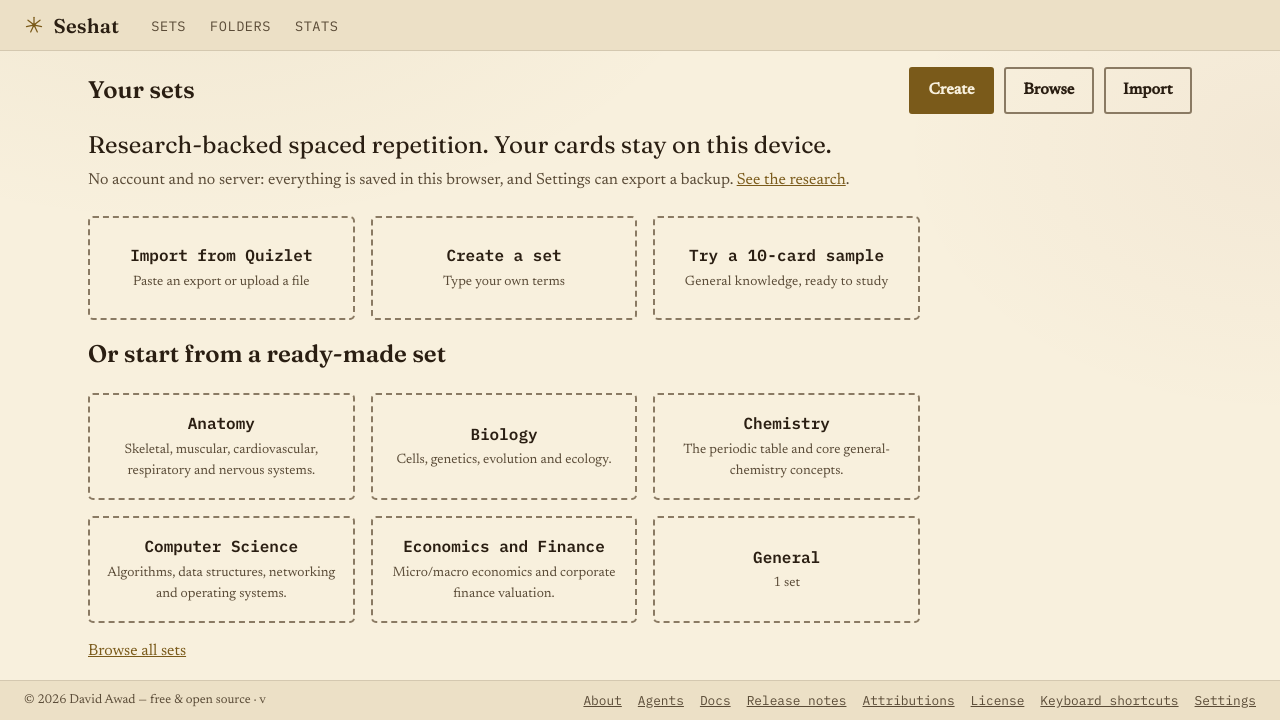
Test: command palette › Keyboard shortcuts opens the shortcuts modal, which lists the new binding
Type keys "{Control>}k{/Control}"
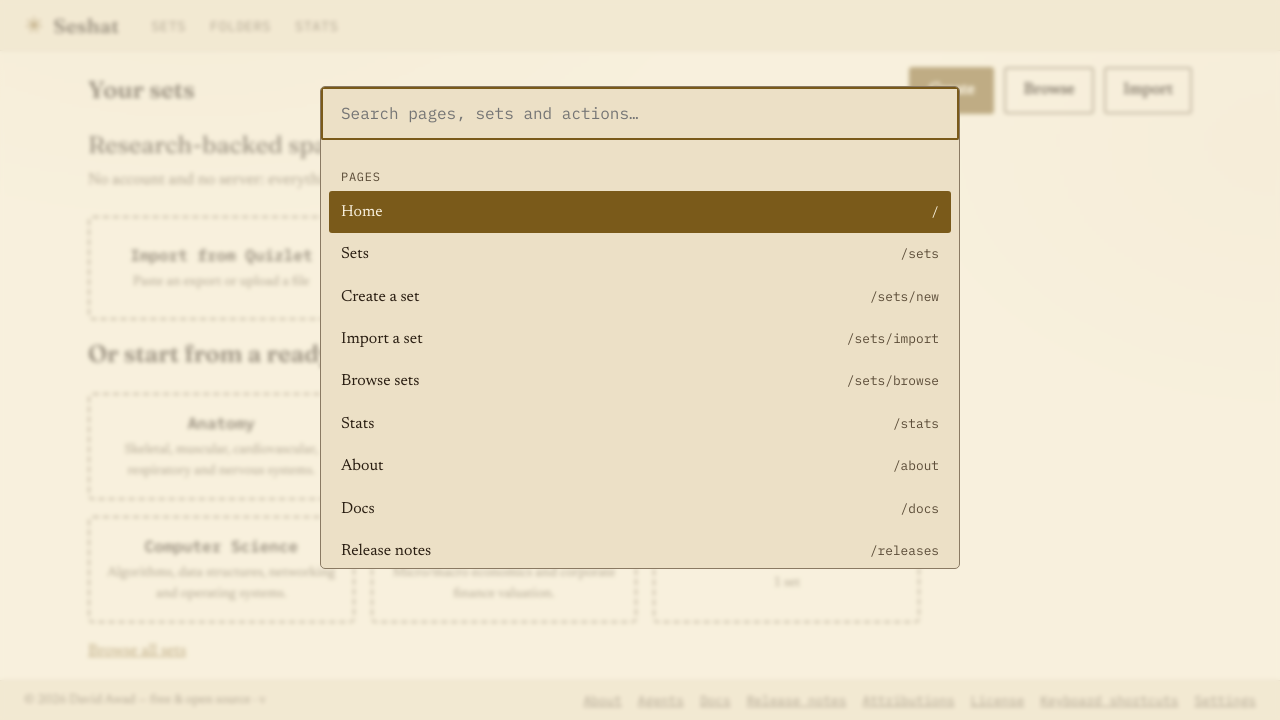
Type "keyboard shortcuts" into the dropdown with test id "palette-input". click: (640, 114)
box: [321,87,959,140]
Then press Enter
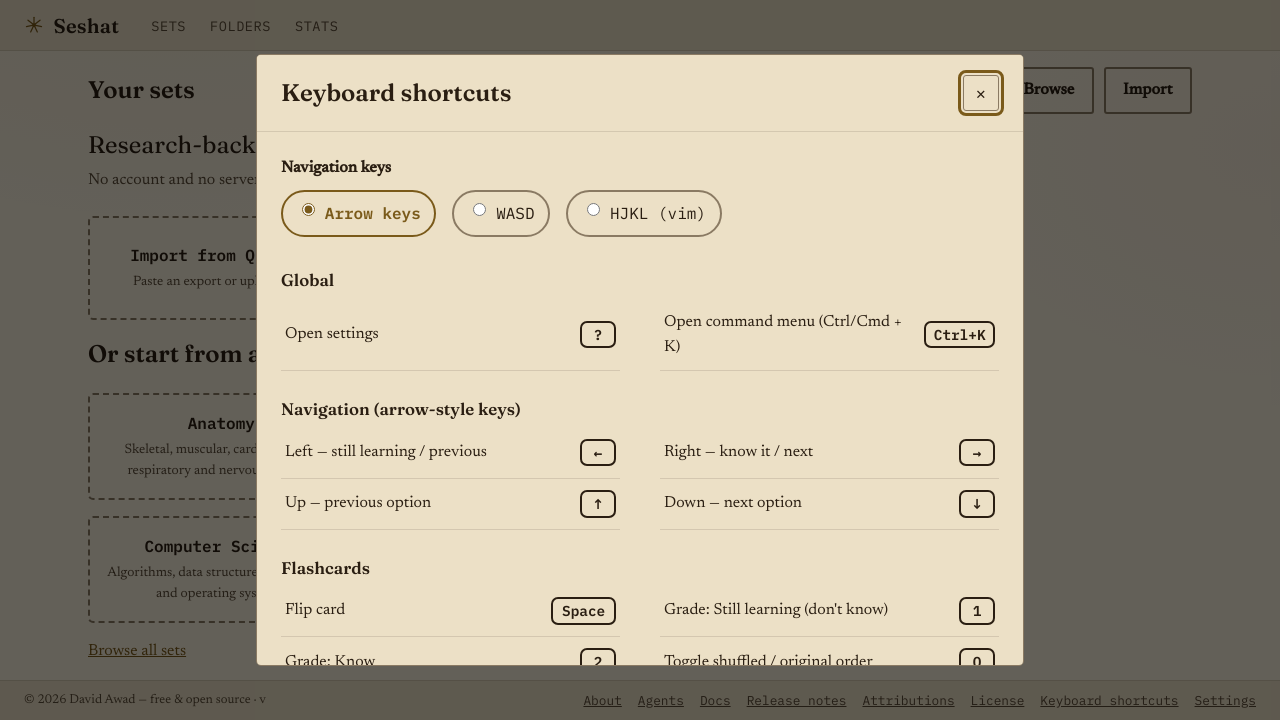
Check: the text "Open command menu (Ctrl/Cmd + K)" is shown, box [664,310,908,359]
